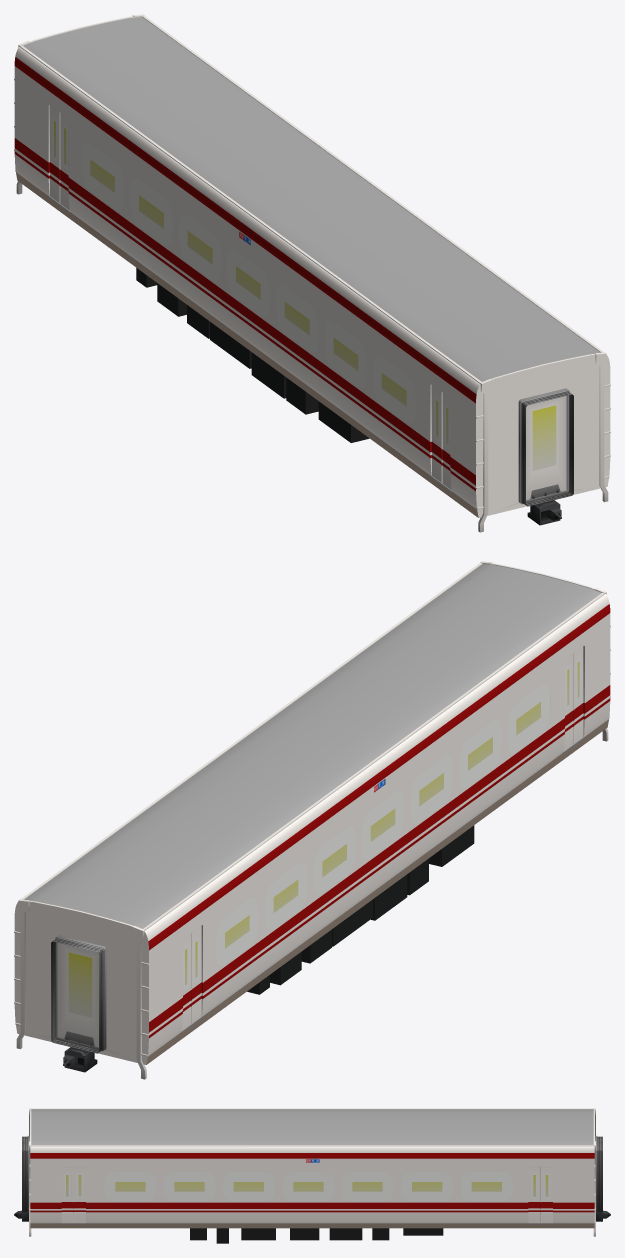
Rendered from PANO_1.glb.
3 renders of one model, top to bottom at view 1: azimuth 30°, elevation 25°; view 2: azimuth 150°, elevation 25°; view 3: azimuth 270°, elevation 25°, orthographic. The views are drawn at different scales.
Visible parts, largest first — view 1: obj3; view 2: obj3; view 3: obj3.
Part boxes in pixels (left/top/right/bottom): obj3: left=14, top=14, right=610, bottom=532; obj3: left=14, top=561, right=610, bottom=1079; obj3: left=14, top=1108, right=610, bottom=1243.
Bounding box in the file's own units: 6.58 × 7.68 × 41.34.
Materials: 14 (13 with a texture image).
